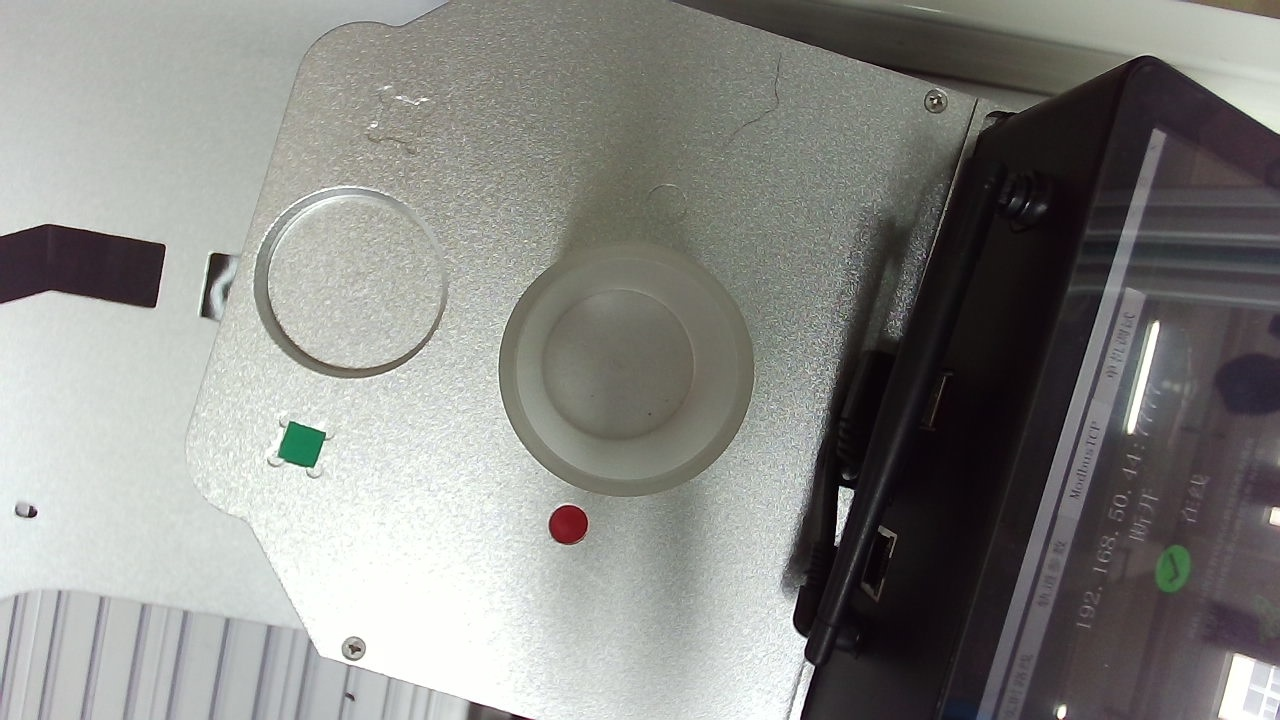XLabel: (476, 61, 545, 130)
YLabel: (906, 54, 977, 127)
none: (345, 194, 685, 532)
transparentempty: (811, 122, 1259, 537)
